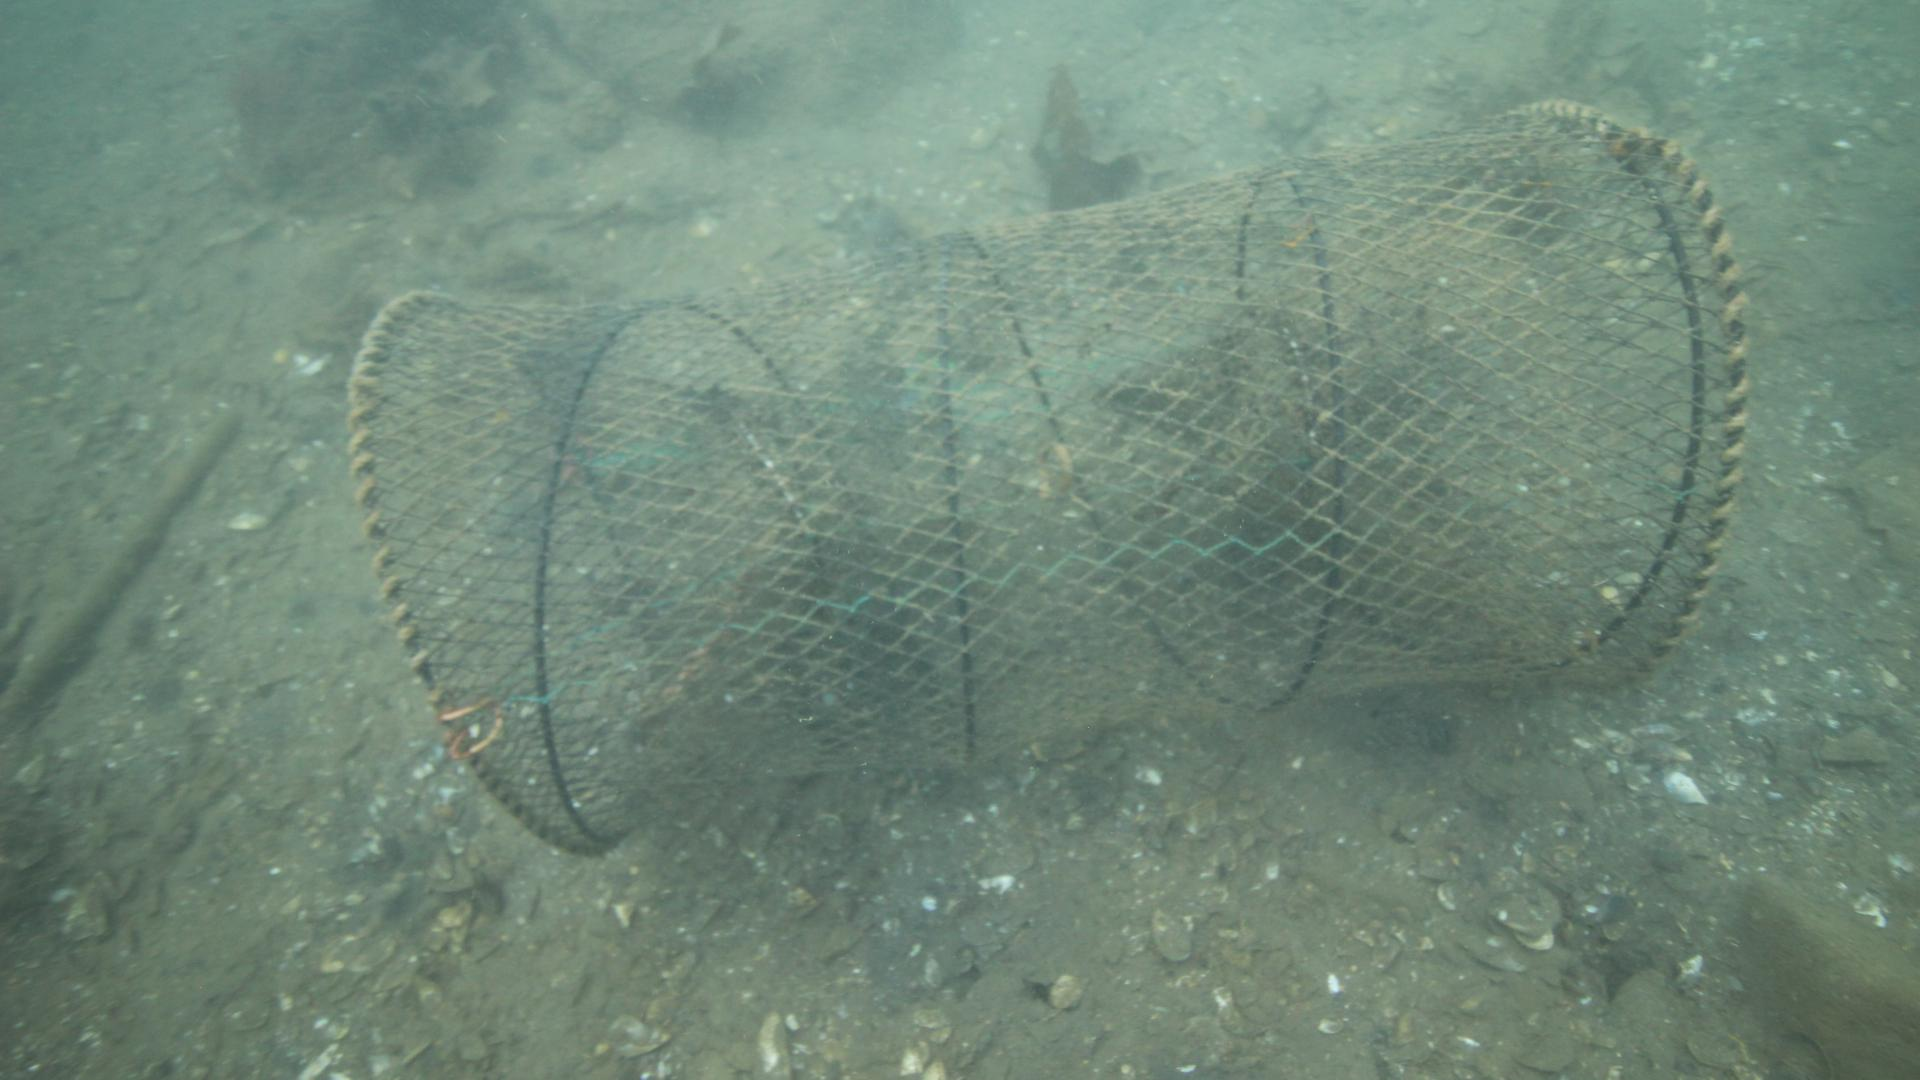spring fish trap: (345, 84, 1754, 851)
